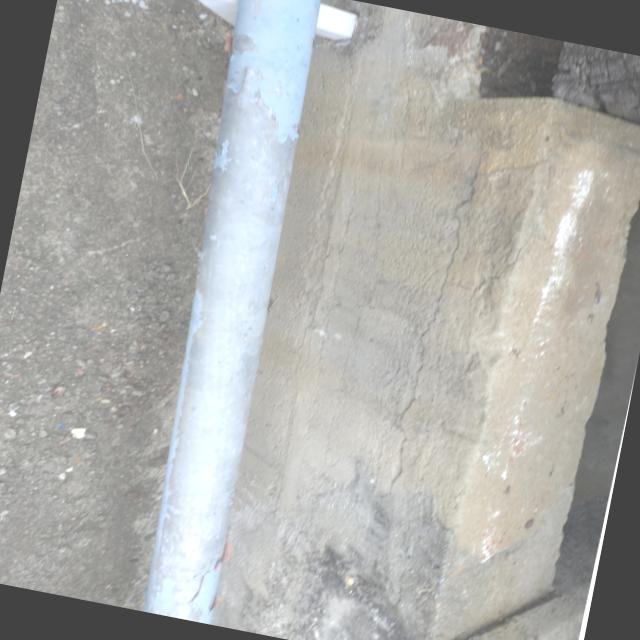gas: (120, 0, 334, 625)
